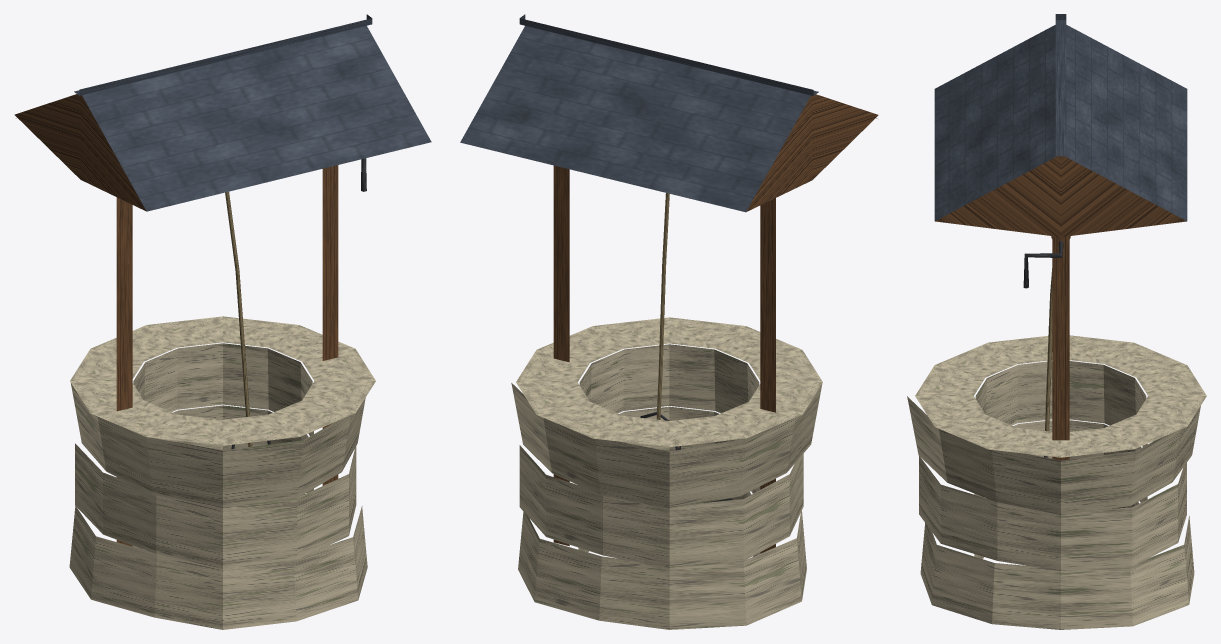
File: prop_haven_well_a.glb
3 views of the same model, side by side, from view 1: azimuth 30°, elevation 25°; view 2: azimuth 150°, elevation 25°; view 3: azimuth 270°, elevation 25° (orthographic). The views are drawn at different scales.
Visible parts, largest first — view 1: prop_haven_well_a; view 2: prop_haven_well_a; view 3: prop_haven_well_a.
Part boxes in pixels (bbox=[...]): prop_haven_well_a: bbox=[14, 14, 431, 629]; prop_haven_well_a: bbox=[460, 14, 878, 629]; prop_haven_well_a: bbox=[907, 14, 1206, 629].
Bounding box in the file's own units: 1.48 × 2.49 × 1.38.
Materials: 1 (1 with a texture image).
